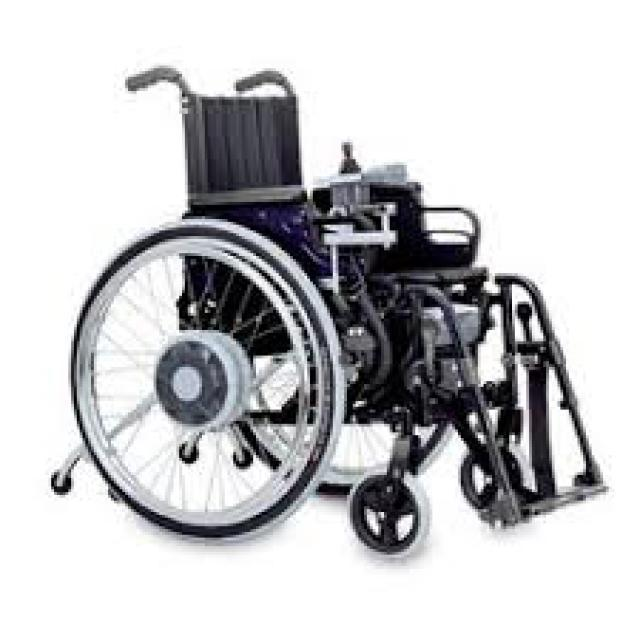wheelchairs: (50, 63, 606, 551)
